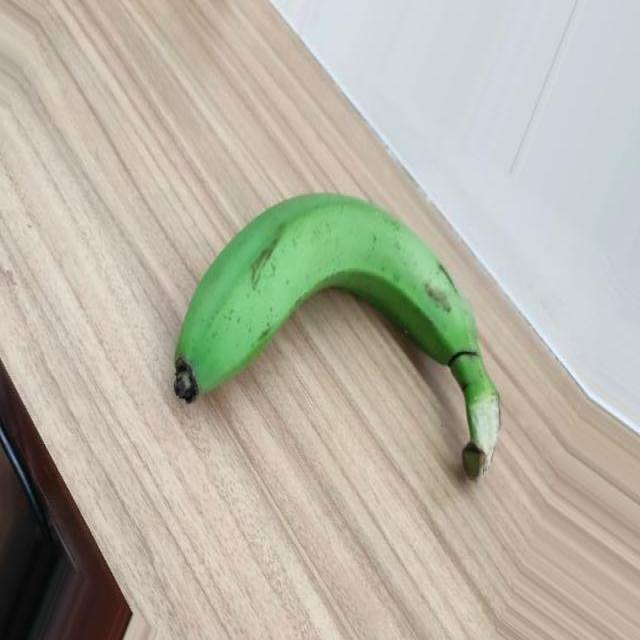Unripe: (172, 191, 501, 482)
